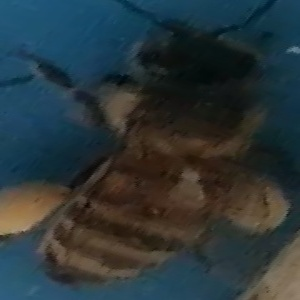bee: (5, 9, 293, 289)
